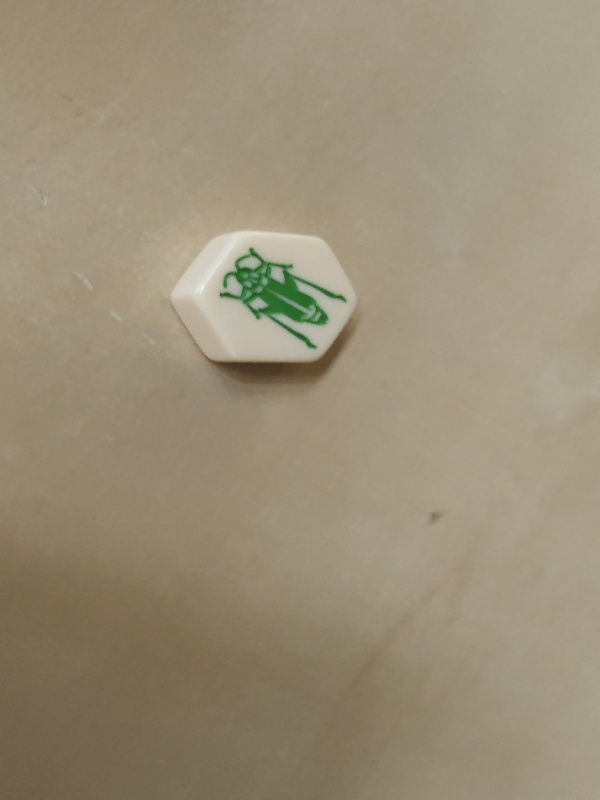white_grasshopper: (179, 233, 360, 368)
